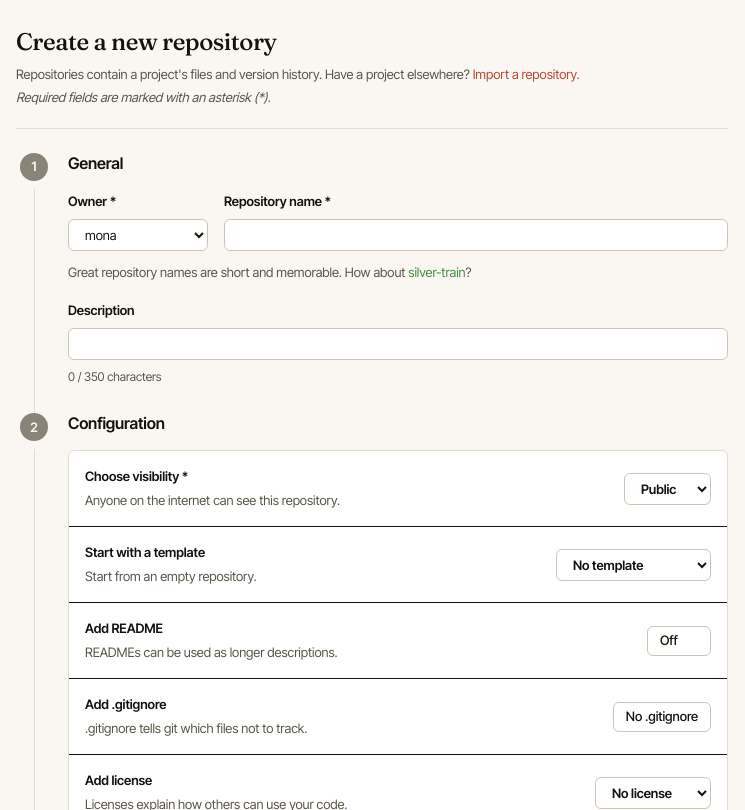
Scenario: RepositoryCreateForm › keeps form values and shows inline conflict errors
Type "my-new-repo" into the field labelled "Repository name *" at (476, 235), box [224,219,728,251]
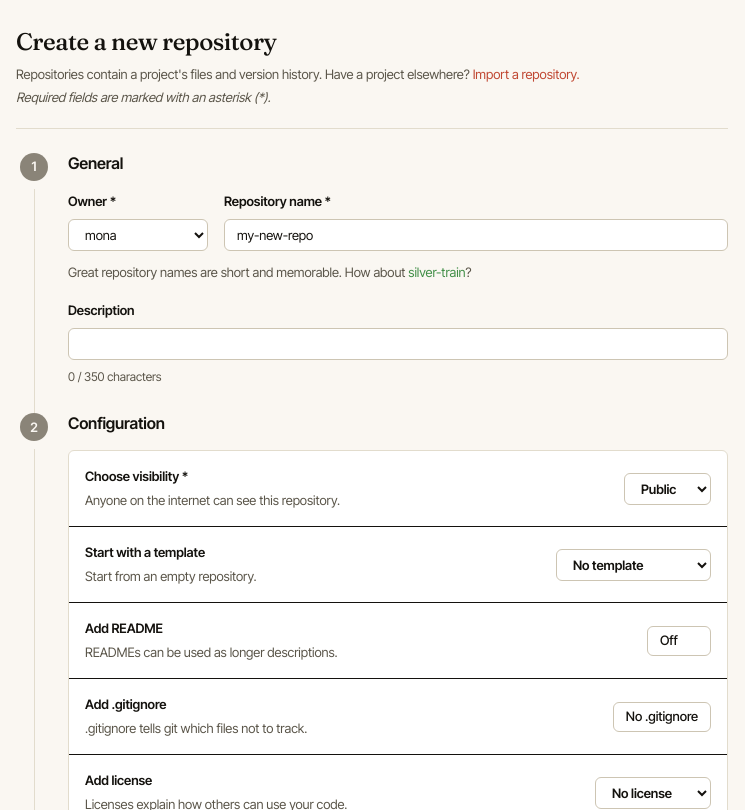
Type "Keep me" into the field labelled "Description 0 / 350 characters" at (398, 344), box [68,328,728,360]
(page scrolled)
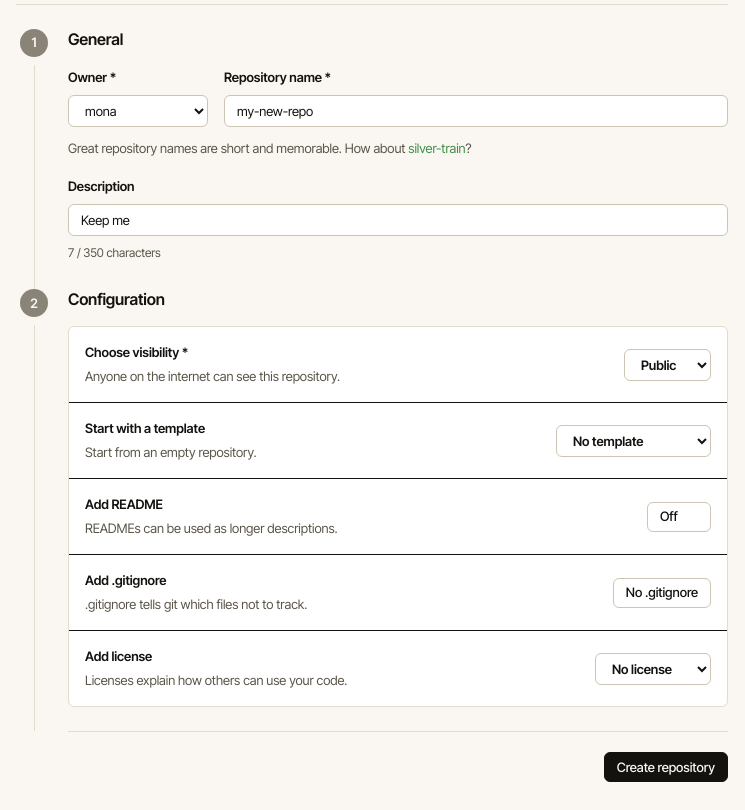
Click the button "Create repository" at (666, 767), box [604,752,728,782]
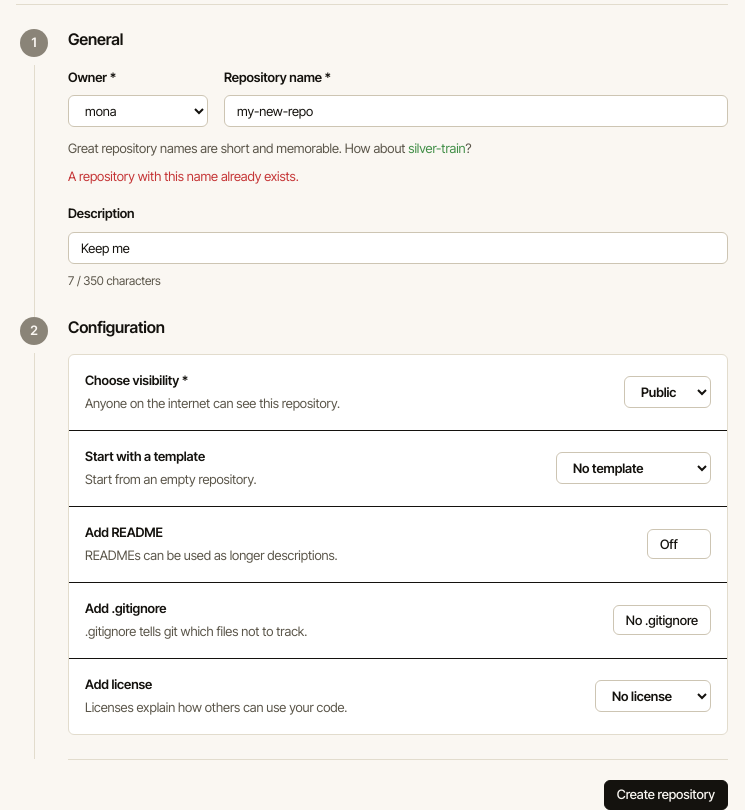
Now the text "A repository with this name already exists." is shown, box [68,168,299,184]
